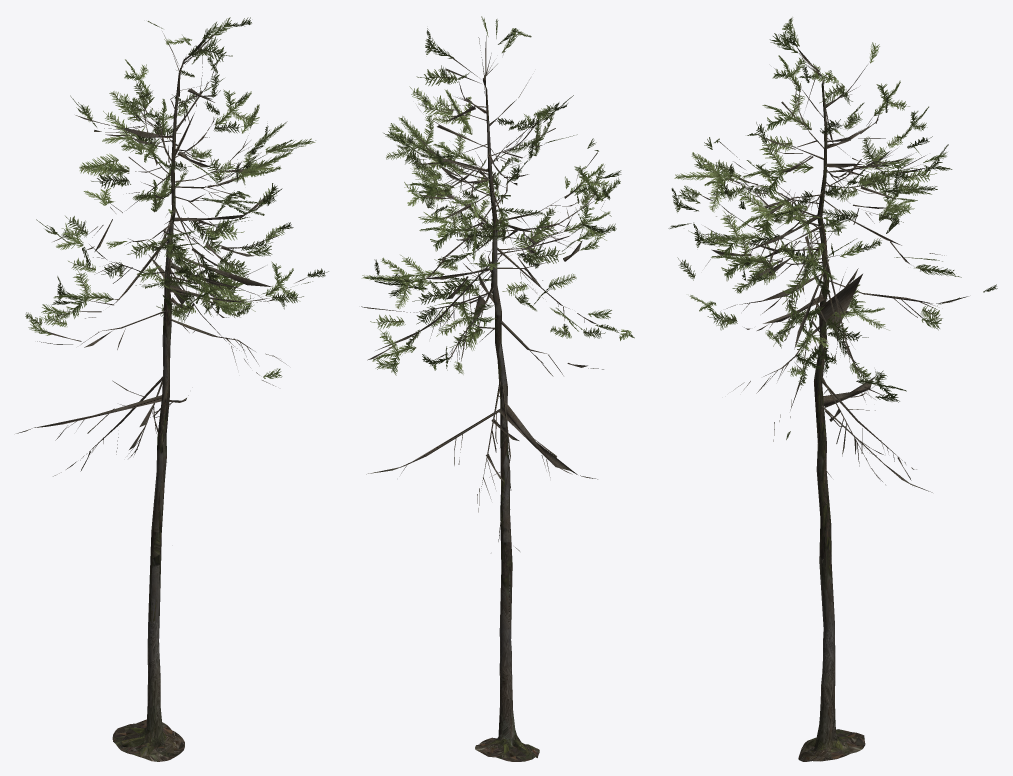
Rendered from fir-2-far.glb.
3 renders of one model, left to right at view 1: azimuth 30°, elevation 25°; view 2: azimuth 150°, elevation 25°; view 3: azimuth 270°, elevation 25°, orthographic. The views are drawn at different scales.
Parts seen in each view (by area): view 1: fir_2_far; view 2: fir_2_far; view 3: fir_2_far.
Boxes of the visible parts, box(x1,y1,x2,y2) form: fir_2_far: box(16, 17, 328, 761); fir_2_far: box(361, 16, 634, 761); fir_2_far: box(668, 17, 997, 761).
Bounding box in the file's own units: 7.86 × 19.14 × 7.74.
Materials: 3 (3 with a texture image).
